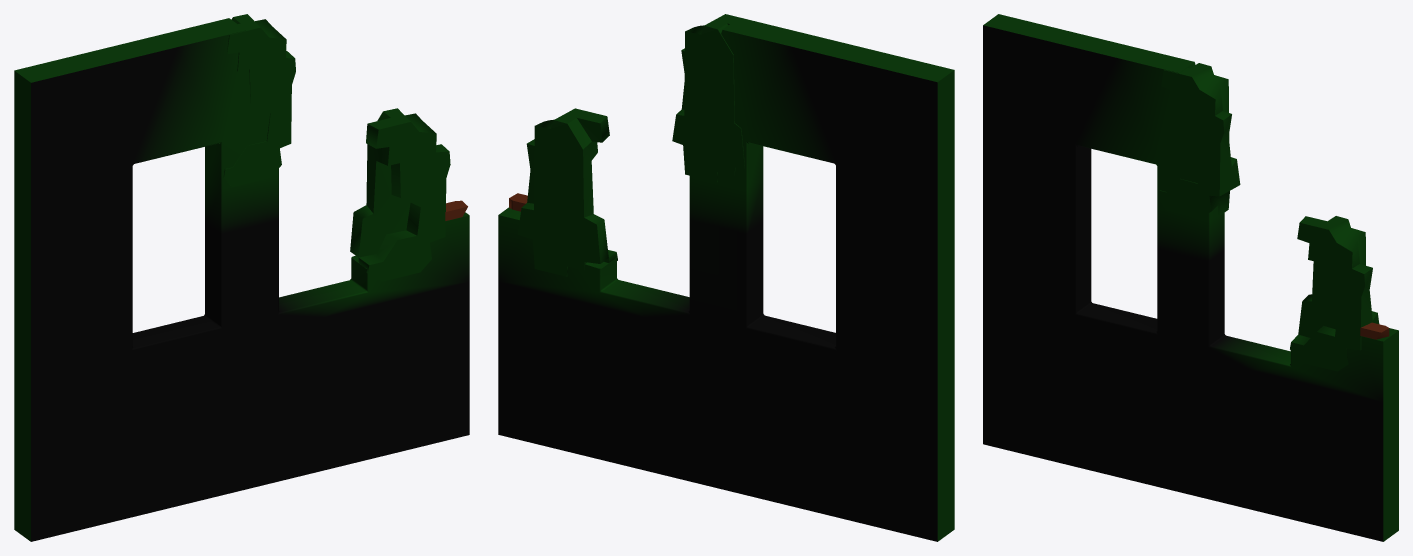
Rendered from DBK_Brick_WinDouble_90_A.fbx.
3 renders of one model, left to right at view 1: azimuth 30°, elevation 25°; view 2: azimuth 150°, elevation 25°; view 3: azimuth 330°, elevation 25°, orthographic. The views are drawn at different scales.
Visible parts, largest first — view 1: DBK_Brick_WinDouble_90_A; view 2: DBK_Brick_WinDouble_90_A; view 3: DBK_Brick_WinDouble_90_A.
Boxes of the visible parts, x1,y1,x2,y2 form: DBK_Brick_WinDouble_90_A: [14, 14, 469, 541]; DBK_Brick_WinDouble_90_A: [498, 14, 954, 541]; DBK_Brick_WinDouble_90_A: [983, 14, 1398, 541].
Bounding box in the file's own units: 300 × 300 × 21.
